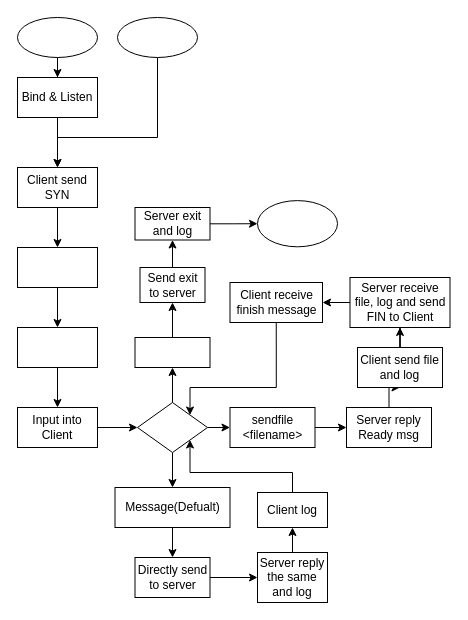
Image size: 468x620. Some labels were removed from this diagram. Here are the shapes that lost their labels. From the top down, the centre of each, then its label:
pixel 57 37: Server Open
pixel 157 37: Client Open
pixel 297 223: Client exit
pixel 57 267: Server send SYN + ACK
pixel 57 347: Client send ACK
pixel 172 352: Exit
pixel 172 427: Test input
